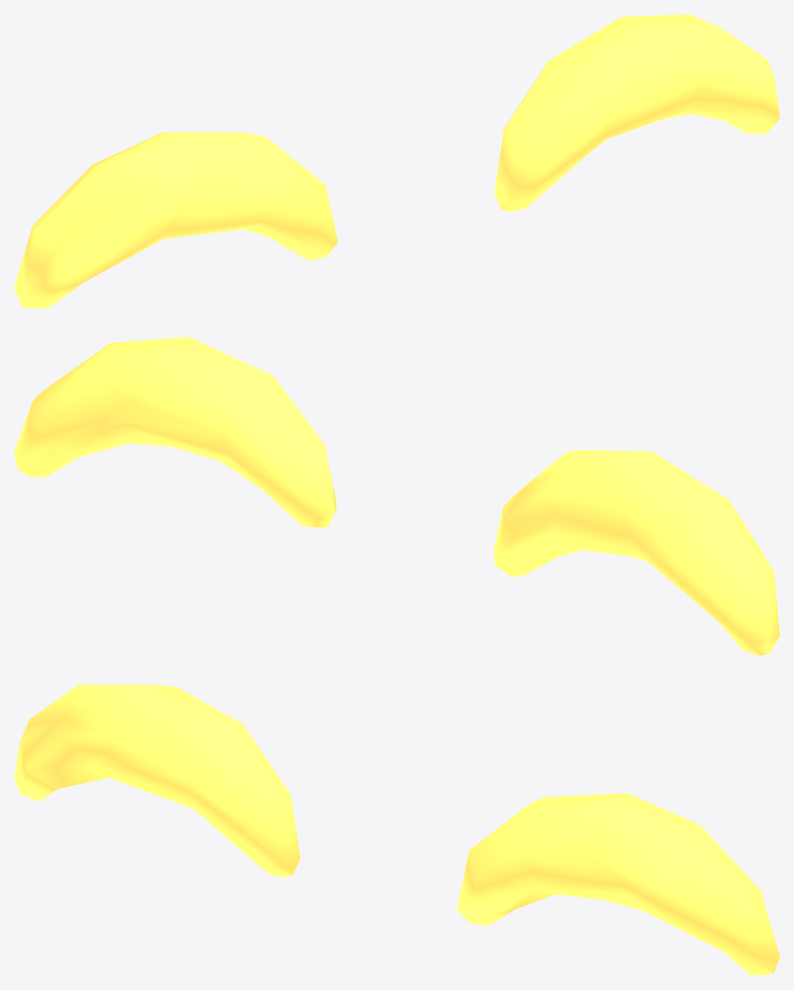
The model's file is Mascarada_MascaraComedia_Neon.fbx.
3 views of the same model, one above another, from view 1: azimuth 30°, elevation 25°; view 2: azimuth 150°, elevation 25°; view 3: azimuth 330°, elevation 25° (orthographic).
Parts seen in each view (by area): view 1: Mascarada_MascaraComedia_Neon; view 2: Mascarada_MascaraComedia_Neon; view 3: Mascarada_MascaraComedia_Neon.
Boxes of the visible parts, x1,y1,x2,y2 form: Mascarada_MascaraComedia_Neon: (14, 14, 779, 308); Mascarada_MascaraComedia_Neon: (14, 337, 779, 655); Mascarada_MascaraComedia_Neon: (14, 684, 779, 975).
Size of the model in its own units: 0.7971 by 0.1559 by 0.1042.
